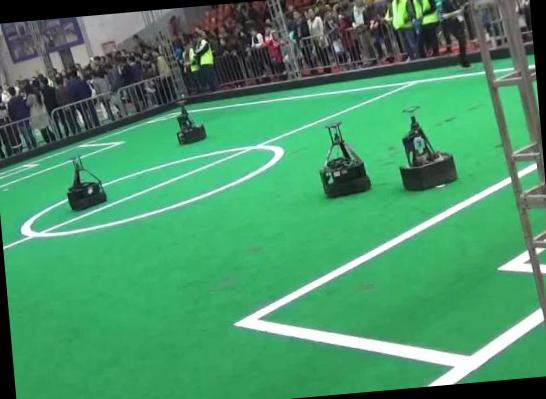robot: (400, 115, 456, 189), (320, 122, 370, 196), (67, 156, 106, 209), (176, 101, 206, 144)
